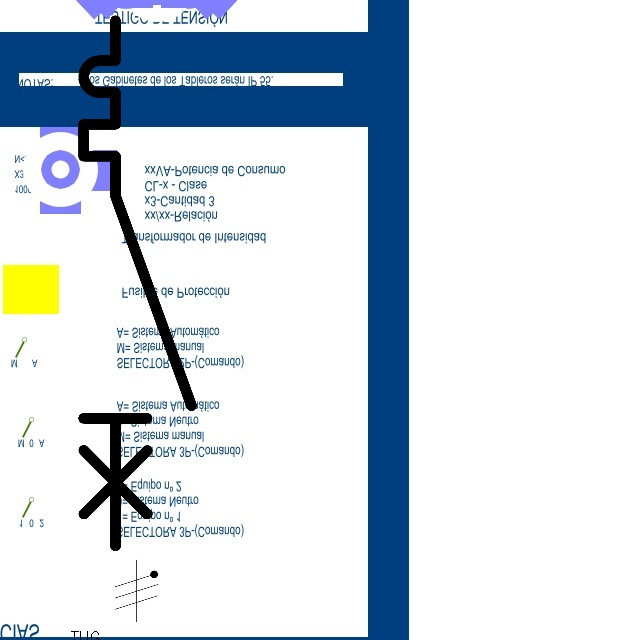interruptor_termomagnetico: (70, 7, 205, 559)
